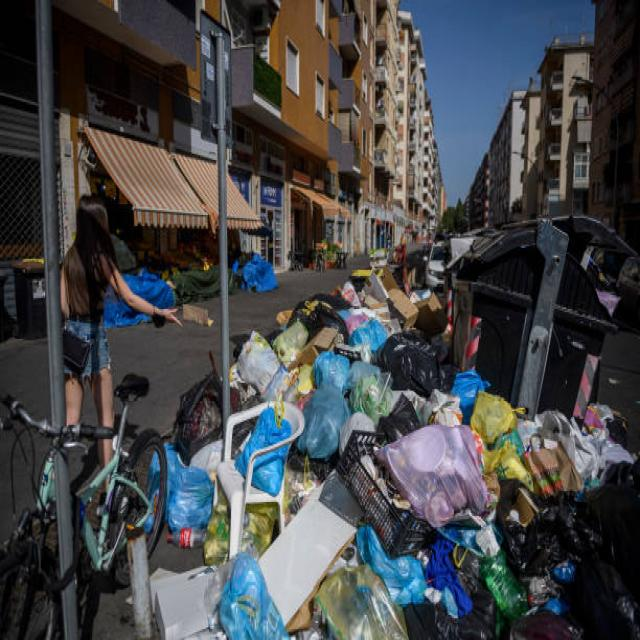trash: (126, 268, 584, 620)
